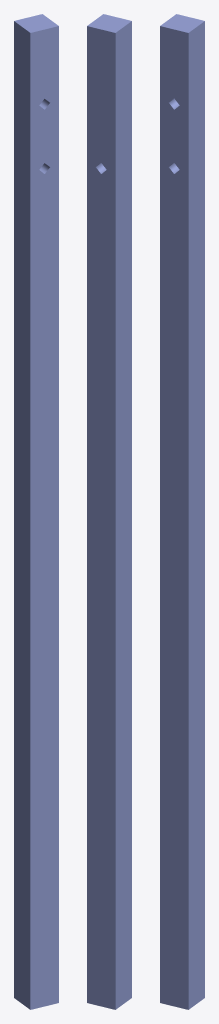
File: Copie de Bati Pied avant droit^Copie de Bati_Horloge Comtoise Verge - Sonnerie.obj
3 views of the same model, side by side, from view 1: azimuth 30°, elevation 25°; view 2: azimuth 150°, elevation 25°; view 3: azimuth 330°, elevation 25° (orthographic).
Visible parts, largest first — view 1: Face_5, Face_1, Face_2; view 2: Face_3, Face_1, Face_2; view 3: Face_5, Face_6, Face_2.
Part boxes in pixels (bbox=[...]): Face_5: bbox=[30, 26, 58, 1009]; Face_1: bbox=[14, 21, 30, 1009]; Face_2: bbox=[14, 14, 58, 32]; Face_3: bbox=[87, 26, 115, 1009]; Face_1: bbox=[115, 21, 131, 1009]; Face_2: bbox=[87, 14, 131, 32]; Face_5: bbox=[160, 26, 188, 1009]; Face_6: bbox=[188, 21, 204, 1009]; Face_2: bbox=[160, 14, 204, 32].
Bounding box in the file's own units: 0.0073 × 0.239 × 0.0073.
